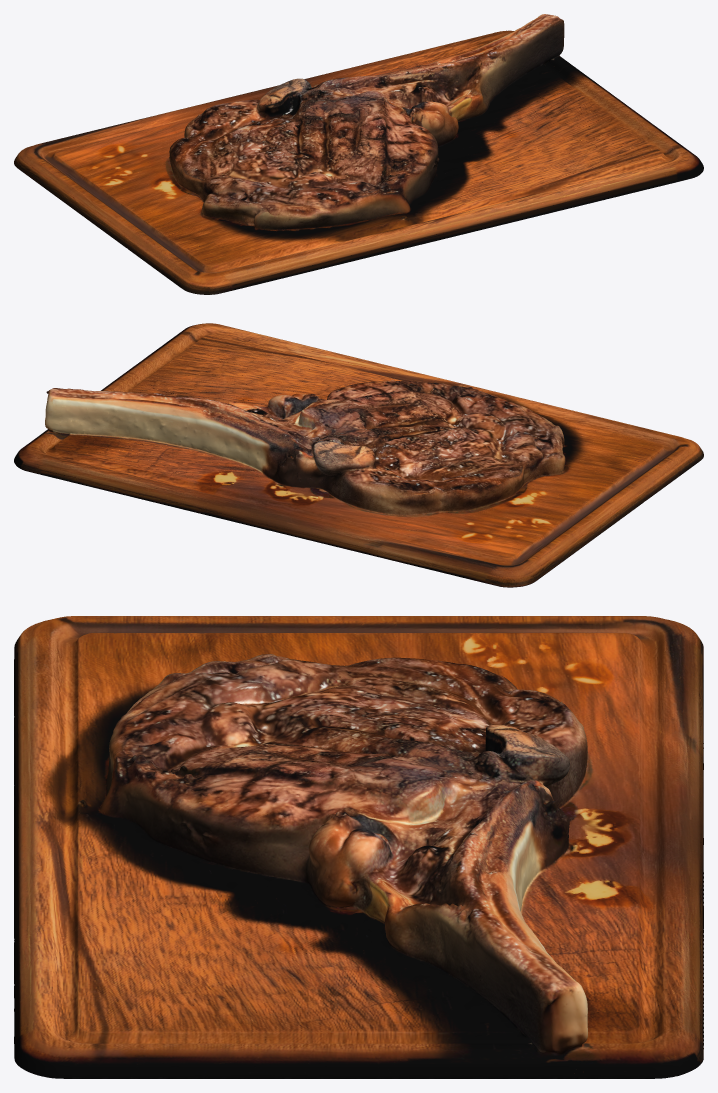
File: Tomahawk_Steak.glb
The picture shows the model from 3 angles, top to bottom: view 1: azimuth 30°, elevation 25°; view 2: azimuth 150°, elevation 25°; view 3: azimuth 270°, elevation 25°; orthographic projection. The views are drawn at different scales.
Size of the model in its own units: 1.9 by 0.1835 by 1.23.
Materials: 1 (1 with a texture image).
